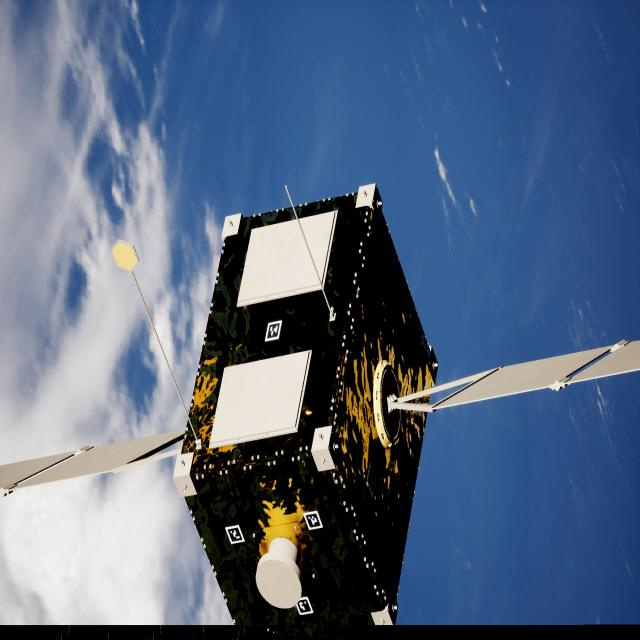medium_debris: (0, 186, 640, 640)
